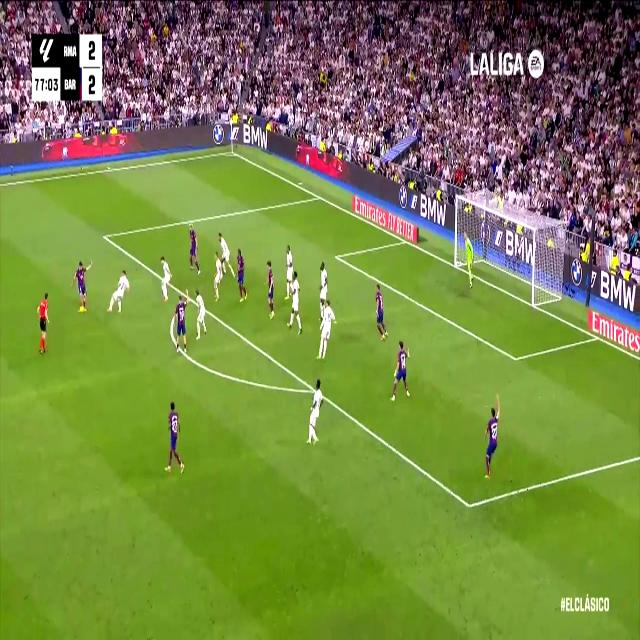bigarea_bottom_inner: (463, 491, 475, 519)
bigarea_top_inner: (99, 225, 109, 246)
bigarea_top_outter: (315, 189, 323, 203)
corner: (227, 146, 237, 157)
smallarea_bottom_outter: (593, 330, 601, 344)
smallarea_top_inner: (332, 248, 342, 266)
